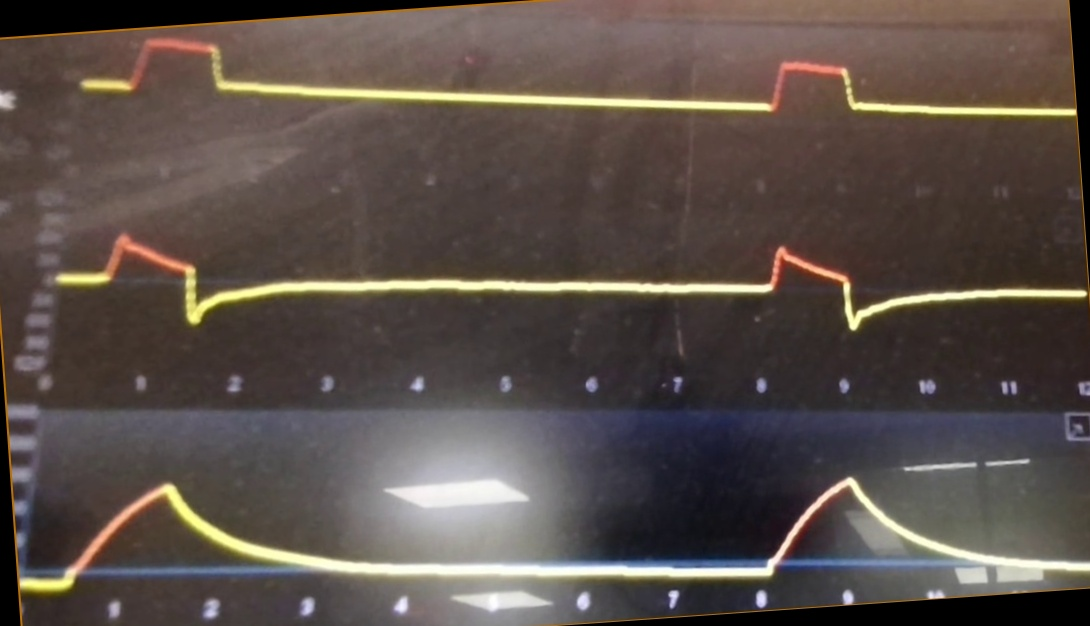Normal Flow: (60, 208, 1090, 355)
Normal Volume: (25, 469, 1090, 600)
